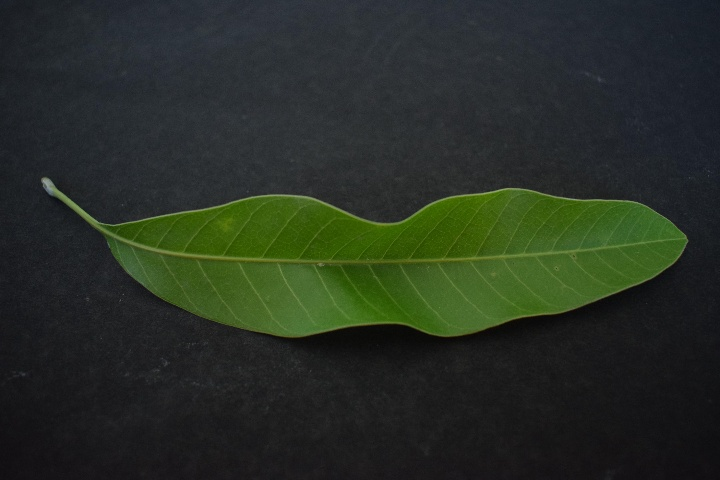healthy: (101, 189, 687, 331)
